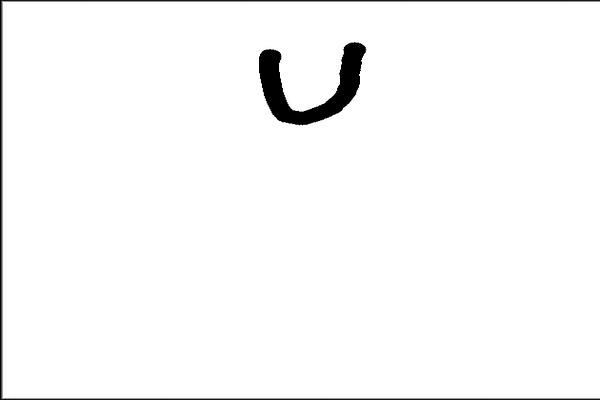U: (247, 33, 370, 134)
